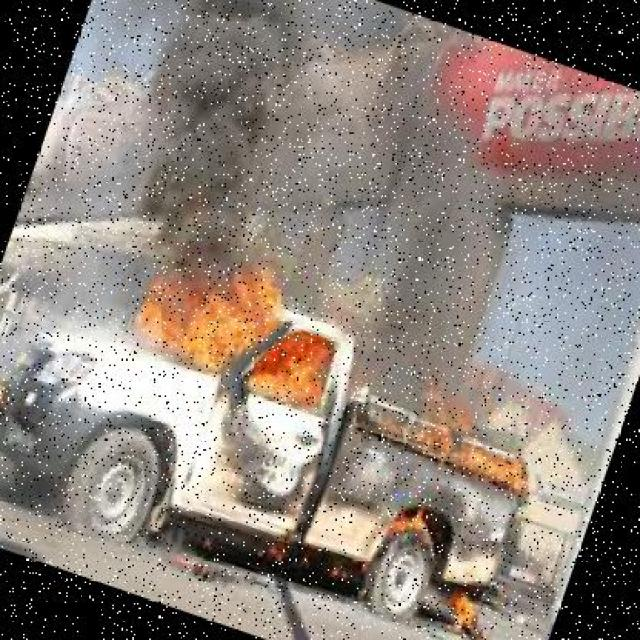fire: (120, 228, 362, 422), (397, 383, 558, 506), (363, 485, 437, 563), (432, 568, 511, 638)
